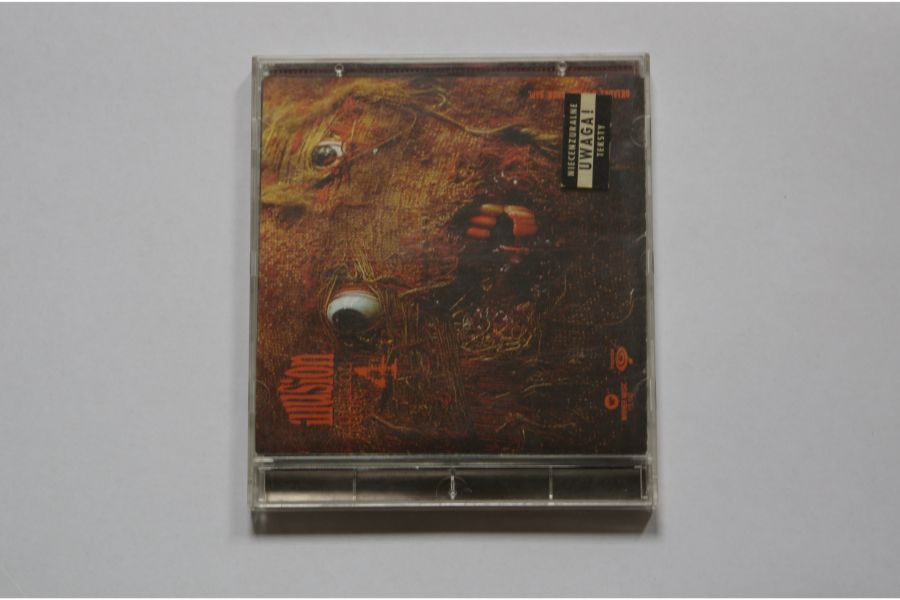album: (244, 53, 660, 512)
